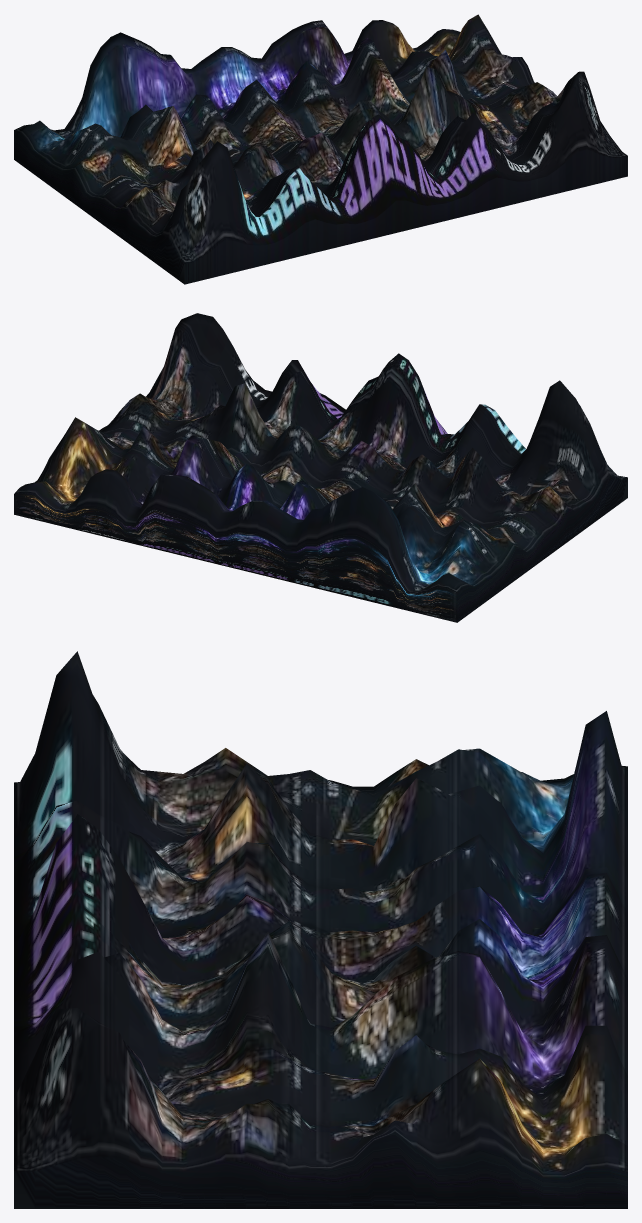
File: CAREER_01_Poster_21.glb
3 views of the same model, one above another, from view 1: azimuth 30°, elevation 25°; view 2: azimuth 150°, elevation 25°; view 3: azimuth 270°, elevation 25° (orthographic). The views are drawn at different scales.
Visible parts, largest first — view 1: CAREER_01_Poster_21; view 2: CAREER_01_Poster_21; view 3: CAREER_01_Poster_21.
Part boxes in pixels (bbox=[...]): CAREER_01_Poster_21: bbox=[14, 14, 627, 284]; CAREER_01_Poster_21: bbox=[14, 313, 627, 622]; CAREER_01_Poster_21: bbox=[14, 651, 627, 1208].
Size of the model in its own units: 2 by 0.51 by 1.33.
Materials: 1 (1 with a texture image).
